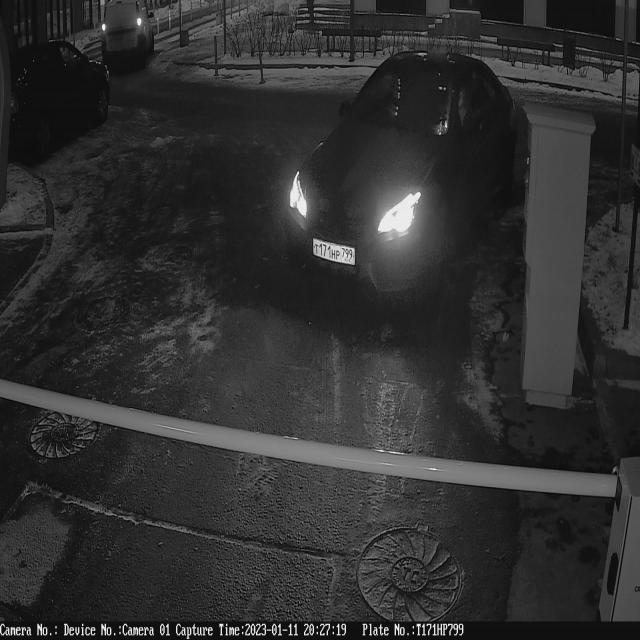car-plate-numbers: (312, 233, 358, 272)
